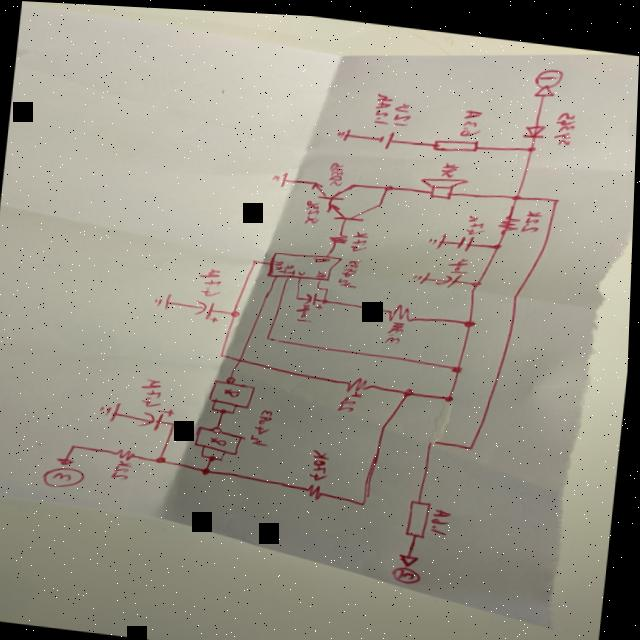capacitor: (139, 403, 180, 431), (195, 295, 222, 320), (436, 265, 466, 284), (305, 287, 328, 307), (456, 228, 478, 248)
crossover: (240, 354, 250, 361)
diode: (520, 115, 551, 135)
ground: (100, 397, 125, 421), (428, 225, 450, 245), (154, 288, 175, 308), (271, 166, 292, 185), (413, 264, 434, 279), (336, 122, 354, 138)
junction: (403, 382, 419, 394), (464, 312, 480, 323), (471, 273, 486, 284), (444, 388, 460, 398), (157, 453, 172, 463), (510, 187, 526, 196), (492, 235, 506, 245), (454, 358, 466, 368), (231, 306, 244, 315), (384, 179, 397, 187), (204, 464, 216, 472), (527, 139, 539, 147), (361, 495, 373, 503), (432, 433, 444, 441), (72, 441, 84, 449), (470, 438, 480, 446), (210, 453, 223, 459), (553, 190, 563, 197), (172, 418, 182, 425), (324, 293, 332, 301), (221, 349, 230, 355), (253, 255, 261, 261), (222, 406, 230, 412), (268, 332, 276, 337), (202, 451, 210, 455), (317, 282, 324, 286), (221, 454, 228, 458), (327, 282, 333, 286), (213, 404, 219, 408), (296, 292, 302, 296), (234, 407, 239, 411)
resistor: (406, 493, 437, 534), (432, 130, 482, 150), (348, 370, 378, 391), (389, 296, 416, 319), (498, 207, 524, 228), (115, 444, 143, 460), (308, 477, 329, 497), (329, 228, 353, 241)
source: (377, 125, 399, 144)
terminal: (399, 547, 427, 563), (533, 78, 559, 93), (59, 455, 81, 466)
text: (253, 404, 279, 444), (552, 104, 578, 141), (199, 263, 228, 296), (140, 373, 169, 406), (371, 87, 398, 122), (310, 444, 336, 479), (339, 252, 366, 285), (47, 465, 87, 486), (338, 384, 370, 410), (460, 103, 485, 133), (432, 502, 457, 531), (535, 61, 565, 84), (390, 96, 415, 123), (394, 561, 428, 580), (386, 315, 410, 340), (304, 194, 325, 222), (447, 250, 475, 271), (523, 203, 546, 228), (466, 208, 489, 231), (114, 458, 138, 480), (328, 156, 348, 182), (351, 225, 372, 248), (297, 299, 317, 319), (441, 155, 462, 173), (274, 255, 289, 271), (284, 259, 299, 272), (314, 252, 333, 260), (317, 265, 329, 274), (298, 265, 311, 273)
transistor: (326, 193, 386, 221), (310, 173, 360, 198)
